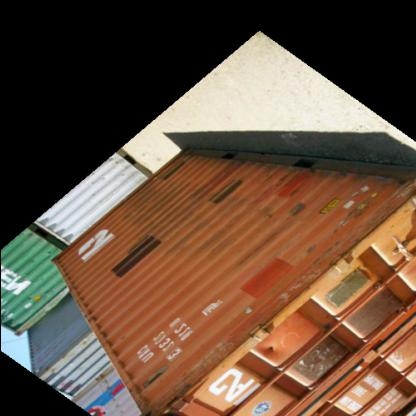Damage: (151, 276, 308, 402), (311, 187, 412, 295), (191, 188, 231, 267), (278, 196, 314, 230)
